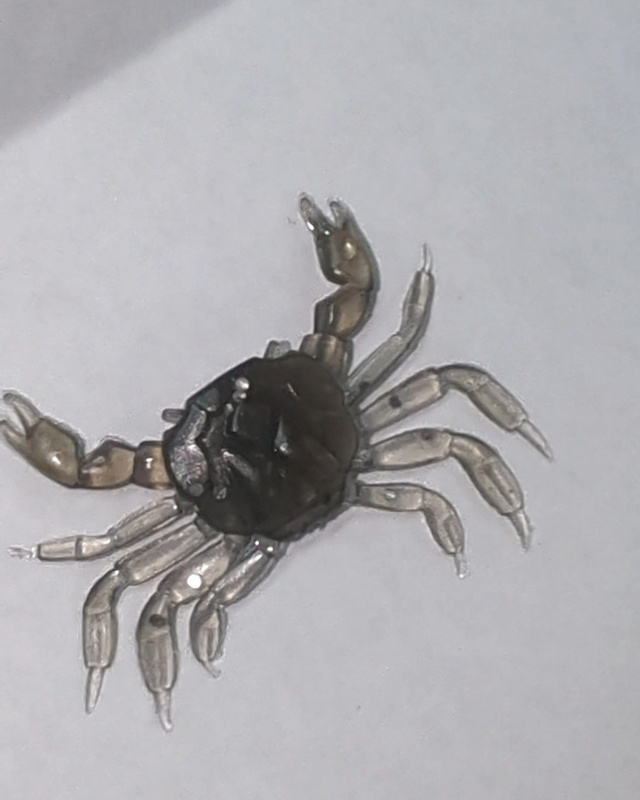crab1: (2, 187, 556, 731)
